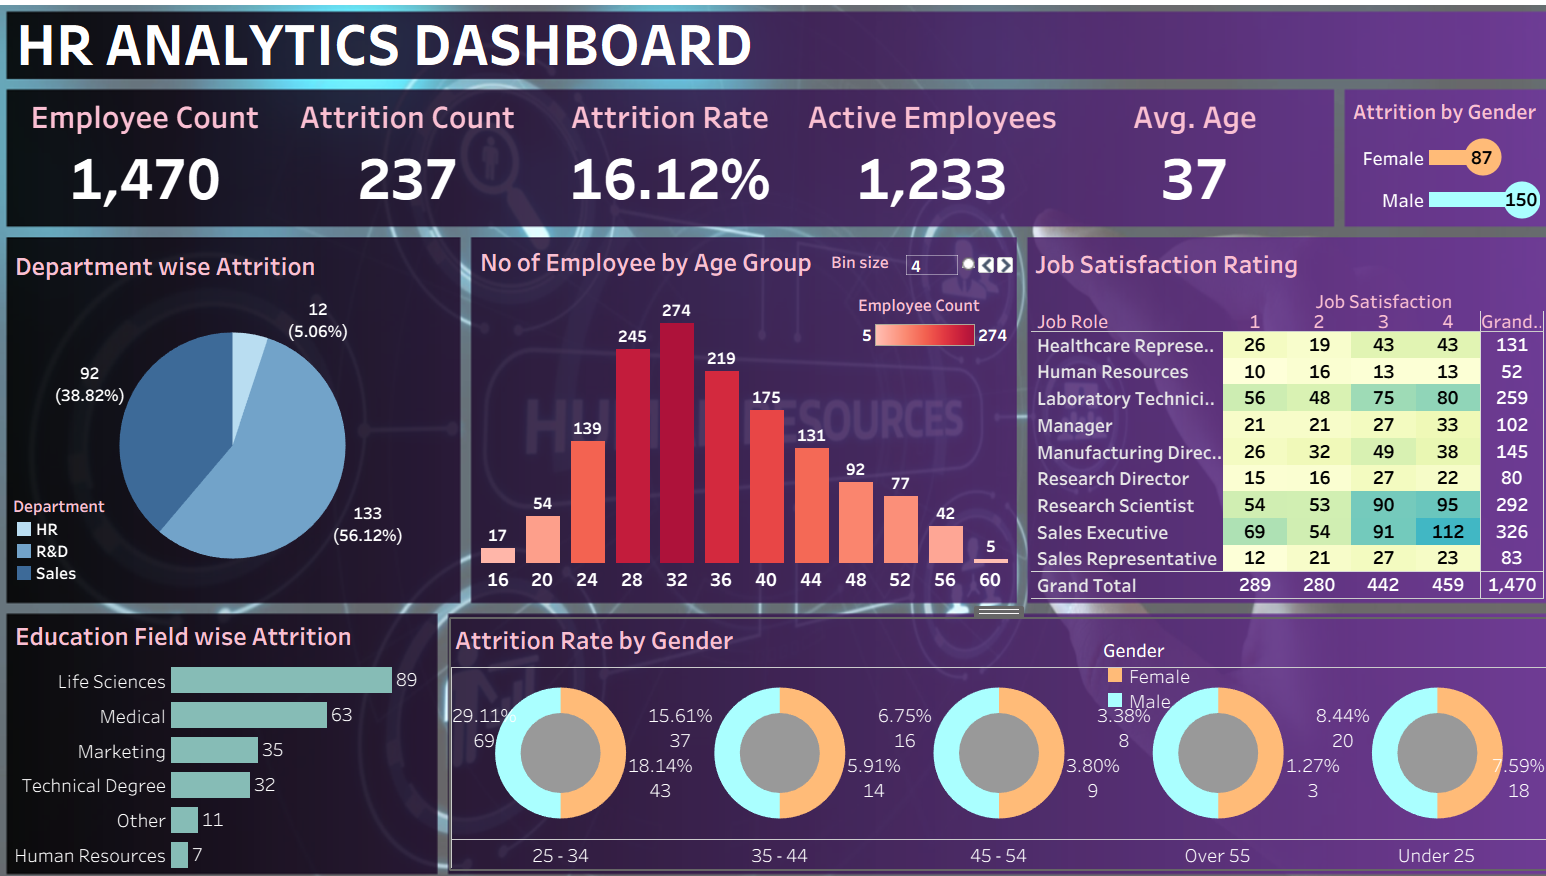

The page's visual inventory and layout, read from the dashboard file:
{"tool":"tableau","page":{"name":"HR ANALYTICS DASHBOARD","canvas":[1000,1000],"units":"permille","ordinal":0},"visuals":[{"type":"image","param":"Image/HR background.pptx.png","box":[5,8.9,989.9,982.2]},{"type":"text","box":[17.6,22.2,601.3,64.4]},{"type":"filter","title":"Department wise Attrition","param":"[federated.0uu02un157ylzm138mxdr1n6xe3c].[none:Education:nk]","box":[579.2,24.4,295,66.7]},{"type":"worksheet","title":"Attrition by Gender","mark":"Automatic","rows":["Gender"],"cols":["Calculation_2260347681476608","Calculation_2260347681476608"],"box":[858.5,111.1,123.9,142.2]},{"type":"worksheet","title":"KPI","mark":"Automatic","box":[18.9,114.4,825.2,135.6]},{"type":"worksheet","title":"No of Employee by Age Group","mark":"Automatic","rows":["Employee Count"],"cols":["Age (bin)"],"box":[309.4,275.6,337.7,390]},{"type":"worksheet","title":"Job Satisfaction Rating","mark":"Square","rows":["Job Role"],"cols":["Job Satisfaction"],"box":[658.5,277.8,323.3,395.6]},{"type":"worksheet","title":"Department wise Attrition","mark":"Pie","box":[17,280,278.6,392.2]},{"type":"parameter","param":"[Parameters].[Parameter 2260348063477764]","box":[532.7,287.8,116.4,52.2]},{"type":"legend","title":"No of Employee by Age Group","param":"[federated.0uu02un157ylzm138mxdr1n6xe3c].[sum:Employee Count:qk]","box":[549.7,334.4,96.9,77.8]},{"type":"legend","title":"Department wise Attrition","param":"[federated.0uu02un157ylzm138mxdr1n6xe3c].[none:Department:nk]","box":[18.2,557.8,88,112.2]},{"type":"worksheet","title":"Education Field wise Attrition","mark":"Automatic","rows":["Education Field"],"cols":["Calculation_2260347681476608"],"box":[17,691.1,266,285.6]},{"type":"worksheet","title":"Attrition Rate by Gender","mark":"Pie","rows":["Calculation_2260348138524679","Calculation_2260348138524679"],"cols":["CF_age band"],"box":[295.6,692.2,688.1,282.2]},{"type":"legend","title":"Attrition Rate by Gender","param":"[federated.0uu02un157ylzm138mxdr1n6xe3c].[none:Gender:nk]","box":[693.7,703.3,219.5,33.3]}]}

Visuals, with their boxes on the dashboard's canvas, which has no fixed pixel size, in thousandths of its width and height (x1, y1, x2, y2). These are canvas units, not pixel positions in the 1546x876 screenshot, which may show the page scaled, cropped or inside an application window:
image: 5:9:995:991
text: 18:22:619:87
"Department wise Attrition" filter: 579:24:874:91
"Attrition by Gender" worksheet: 858:111:982:253
"KPI" worksheet: 19:114:844:250
"No of Employee by Age Group" worksheet: 309:276:647:666
"Job Satisfaction Rating" worksheet (Square marks): 658:278:982:673
"Department wise Attrition" worksheet (Pie marks): 17:280:296:672
parameter: 533:288:649:340
"No of Employee by Age Group" legend: 550:334:647:412
"Department wise Attrition" legend: 18:558:106:670
"Education Field wise Attrition" worksheet: 17:691:283:977
"Attrition Rate by Gender" worksheet (Pie marks): 296:692:984:974
"Attrition Rate by Gender" legend: 694:703:913:737
